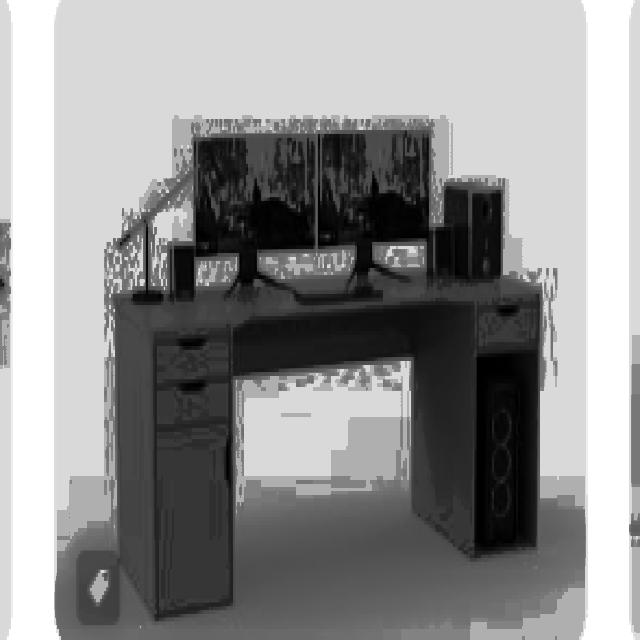table: (111, 264, 540, 618)
